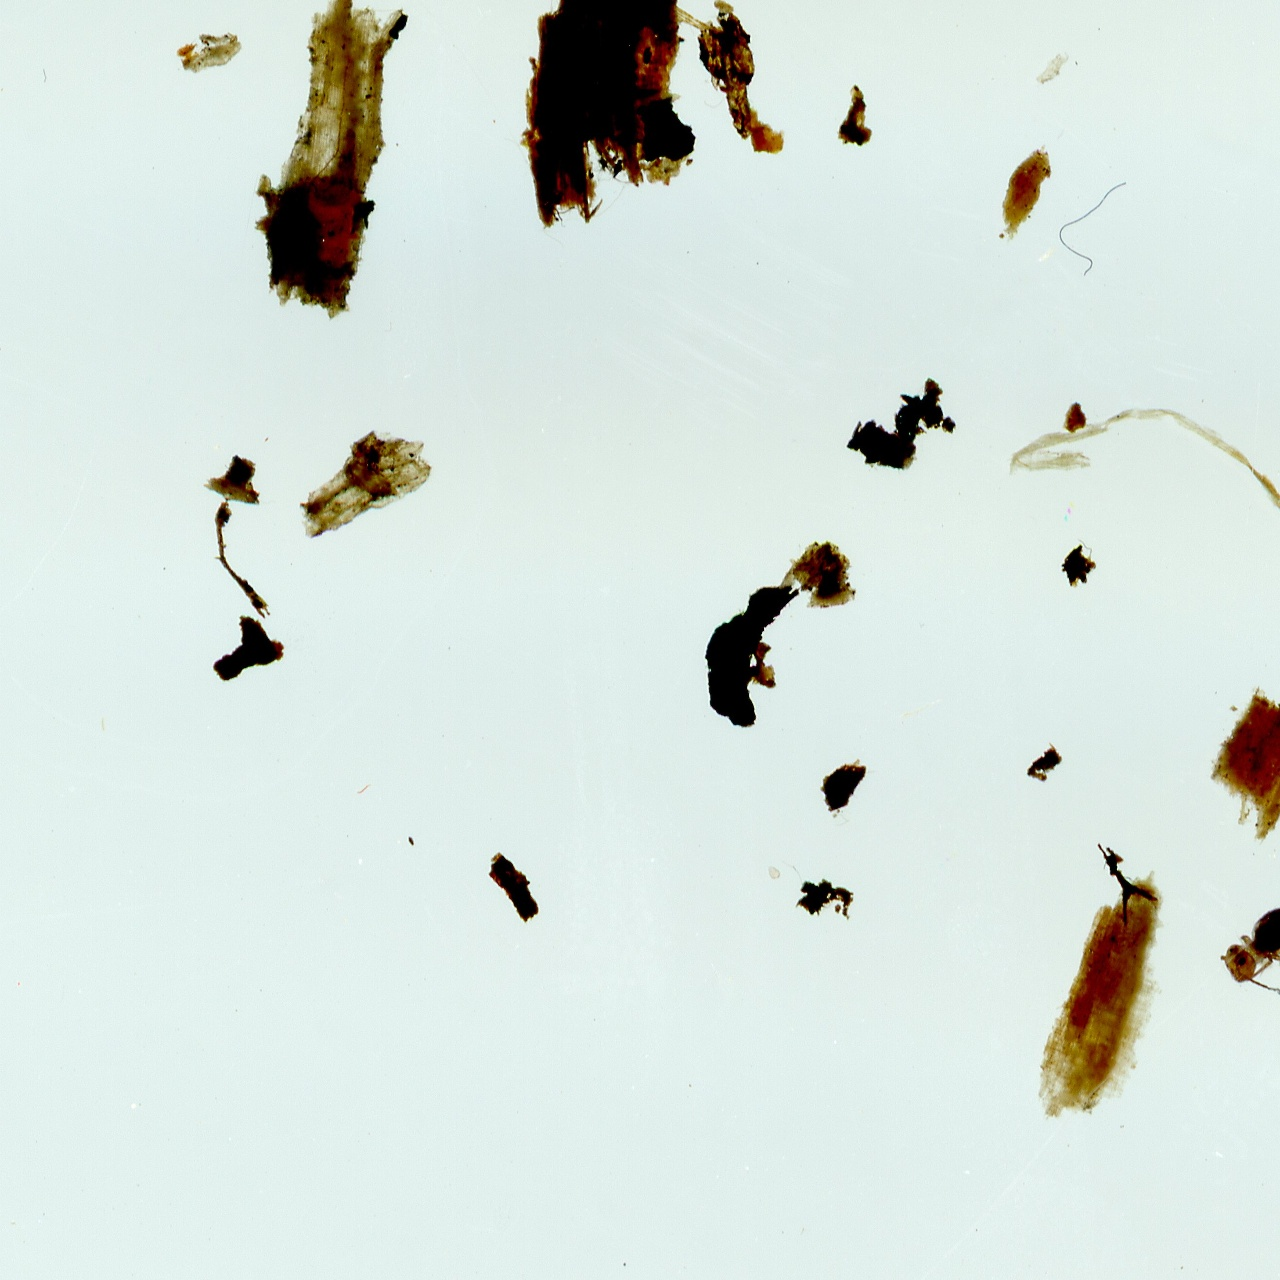arthropod: (1214, 900, 1280, 1003)
